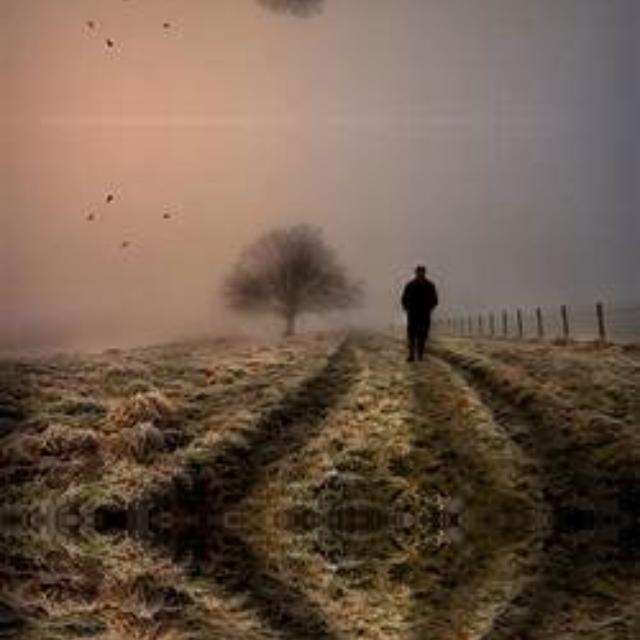person: (403, 255, 437, 358)
